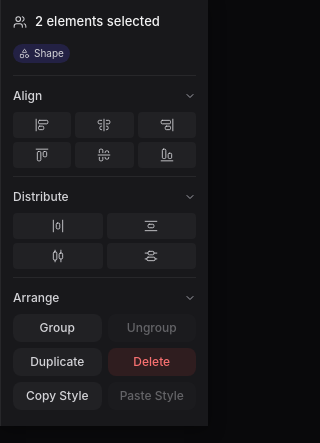
multi selection › Copy Style snapshots the first selected element and enables Paste Style
Expected: the button "Paste Style" is disabled, [108,382,196,410]
Click the button "Copy Style" at point(57, 396), box [13,382,102,410]
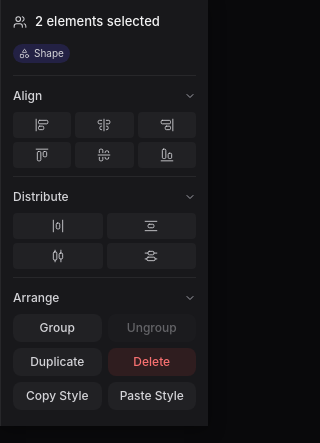
Now the button "Paste Style" is enabled, box [108,382,196,410]
